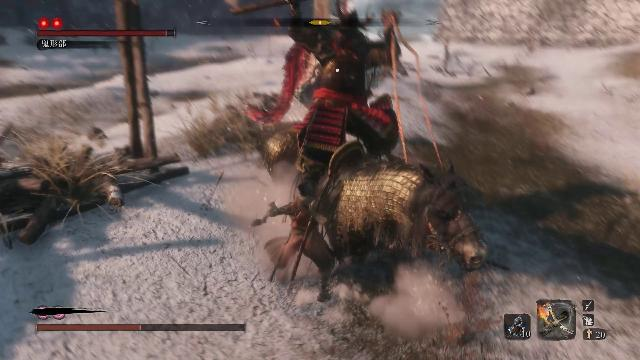sk: (246, 180, 338, 310)
